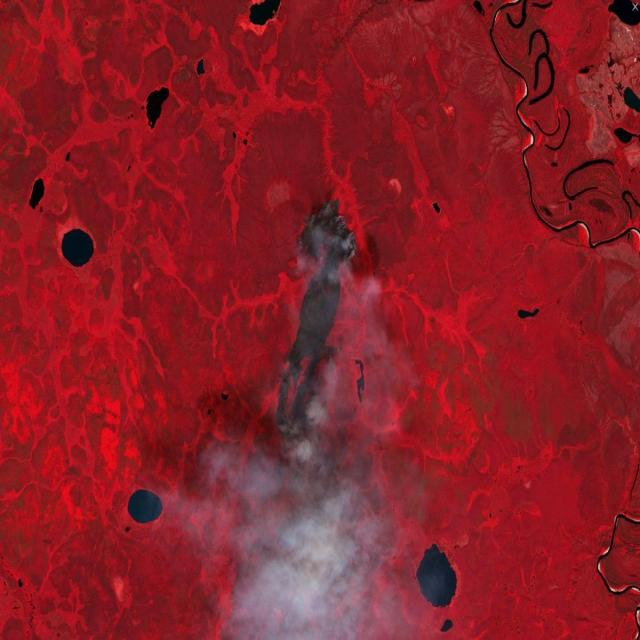fire: (266, 192, 365, 448)
